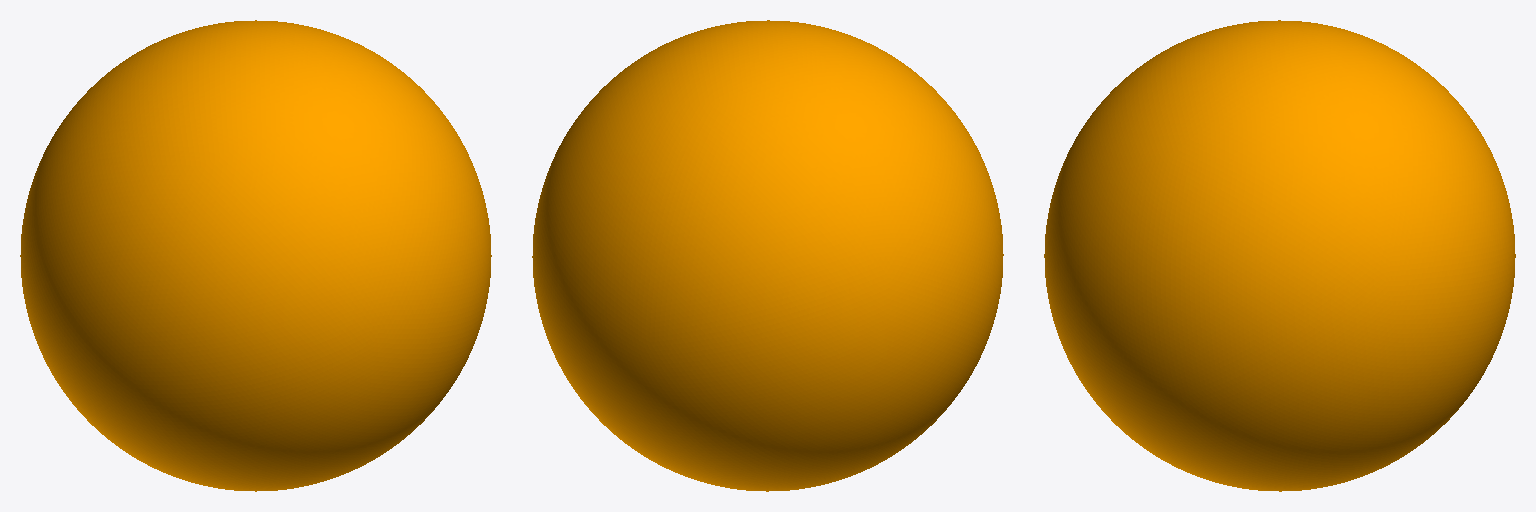
The model's file is sphere_gold_older.obj.
The picture shows the model from 3 angles: view 1: azimuth 30°, elevation 25°; view 2: azimuth 150°, elevation 25°; view 3: azimuth 270°, elevation 25°; orthographic projection.
Parts seen in each view (by area): view 1: sopimport1_mesh_0.001; view 2: sopimport1_mesh_0.001; view 3: sopimport1_mesh_0.001.
Boxes of the visible parts, x1=… form: sopimport1_mesh_0.001: x1=20, y1=20, x2=491, y2=491; sopimport1_mesh_0.001: x1=532, y1=20, x2=1003, y2=491; sopimport1_mesh_0.001: x1=1044, y1=20, x2=1515, y2=491.
Size of the model in its own units: 1 by 1 by 1.